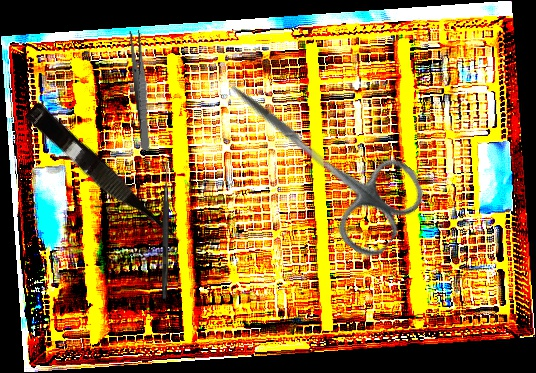Dressing Forceps: (128, 30, 154, 151)
Hook Surgical: (162, 159, 169, 299)
Iris Scissors: (198, 50, 435, 265)
Micro Scissor: (20, 100, 187, 255)
